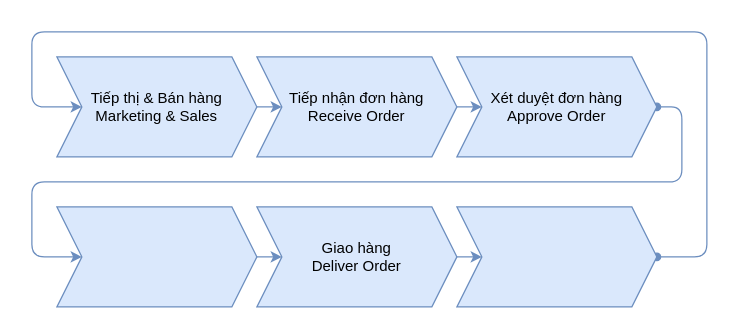
This 740x329 diagram has some shape labels left out. Here are the shapes that lost their labels. From the top down, the centre of each, then its label:
(156,256): Xử lý & Đóng gói Fill Order
(556,256): Hỗ trợ & Bảo hành Customer Service
